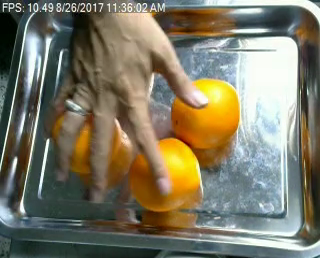Orange: (129, 138, 203, 212), (171, 77, 240, 148)
